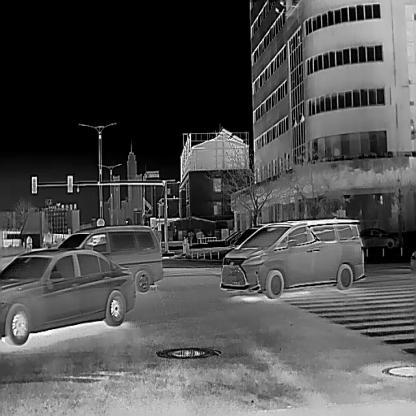car: (0, 247, 135, 346), (220, 220, 366, 298), (54, 224, 162, 293), (357, 226, 398, 248)
